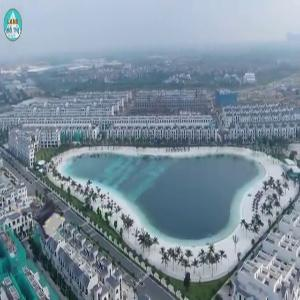drone: (14, 177, 70, 233)
